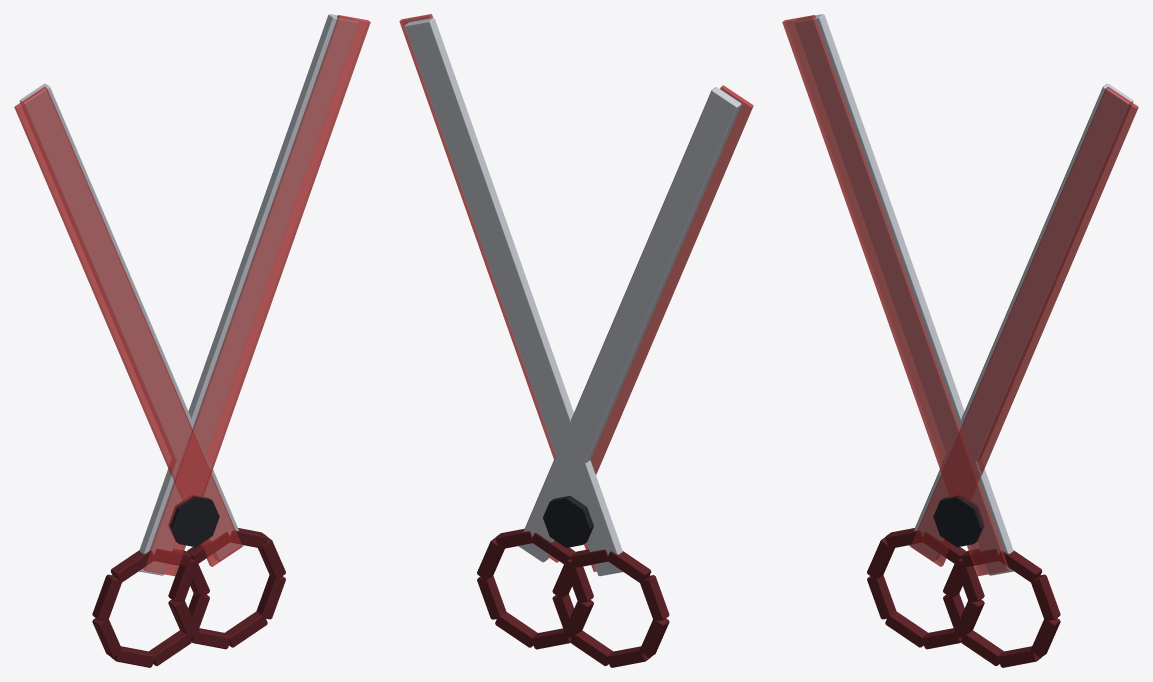
The model's file is twin_edge.glb.
The picture shows the model from 3 angles, left to right: view 1: azimuth 30°, elevation 25°; view 2: azimuth 150°, elevation 25°; view 3: azimuth 330°, elevation 25°; orthographic projection.
Parts seen in each view (by area): view 1: edge_glow_L, edge_glow_R, blade_L, blade_R, pivot, handle_ring_L_3, handle_ring_R_7, handle_ring_R_6, handle_ring_L_6, handle_ring_L_2, handle_ring_L_4, handle_ring_R_3 (+7 smaller); view 2: blade_L, blade_R, edge_glow_R, edge_glow_L, pivot, handle_ring_L_3, handle_ring_R_7, handle_ring_R_6, handle_ring_L_6, handle_ring_L_2, handle_ring_L_4, handle_ring_R_3 (+7 smaller); view 3: edge_glow_R, edge_glow_L, blade_R, blade_L, pivot, handle_ring_R_0, handle_ring_L_4, handle_ring_L_5, handle_ring_R_5, handle_ring_R_1, handle_ring_L_0, handle_ring_R_7 (+7 smaller).
Part boxes in pixels (bbox=[...]): edge_glow_L: bbox=[143, 15, 370, 576]; edge_glow_R: bbox=[14, 86, 242, 566]; blade_L: bbox=[139, 14, 358, 575]; blade_R: bbox=[19, 83, 244, 560]; pivot: bbox=[168, 495, 219, 547]; handle_ring_L_3: bbox=[92, 574, 121, 620]; handle_ring_R_7: bbox=[256, 575, 285, 619]; handle_ring_R_6: bbox=[225, 611, 267, 647]; handle_ring_L_6: bbox=[149, 630, 191, 666]; handle_ring_L_2: bbox=[110, 550, 154, 582]; handle_ring_L_4: bbox=[92, 618, 121, 657]; handle_ring_R_3: bbox=[168, 560, 194, 601]; blade_L: bbox=[404, 18, 622, 576]; blade_R: bbox=[518, 87, 741, 562]; edge_glow_R: bbox=[549, 85, 753, 562]; edge_glow_L: bbox=[399, 14, 596, 571]; pivot: bbox=[543, 495, 593, 547]; handle_ring_L_3: bbox=[640, 575, 669, 620]; handle_ring_R_7: bbox=[477, 575, 506, 619]; handle_ring_R_6: bbox=[495, 612, 537, 647]; handle_ring_L_6: bbox=[570, 630, 613, 665]; handle_ring_L_2: bbox=[607, 551, 651, 582]; handle_ring_L_4: bbox=[640, 618, 669, 657]; handle_ring_R_3: bbox=[565, 560, 593, 602]; edge_glow_R: bbox=[782, 15, 1009, 576]; edge_glow_L: bbox=[910, 86, 1138, 566]; blade_R: bbox=[794, 14, 1013, 575]; blade_L: bbox=[908, 83, 1133, 560]; pivot: bbox=[933, 495, 984, 547]; handle_ring_R_0: bbox=[1031, 574, 1060, 620]; handle_ring_L_4: bbox=[867, 575, 896, 619]; handle_ring_L_5: bbox=[885, 611, 927, 647]; handle_ring_R_5: bbox=[961, 630, 1003, 666]; handle_ring_R_1: bbox=[998, 550, 1042, 582]; handle_ring_L_0: bbox=[955, 560, 984, 601]; handle_ring_R_7: bbox=[1031, 618, 1060, 657].
Bounding box in the file's own units: 0.7461 × 1.22 × 0.05.
